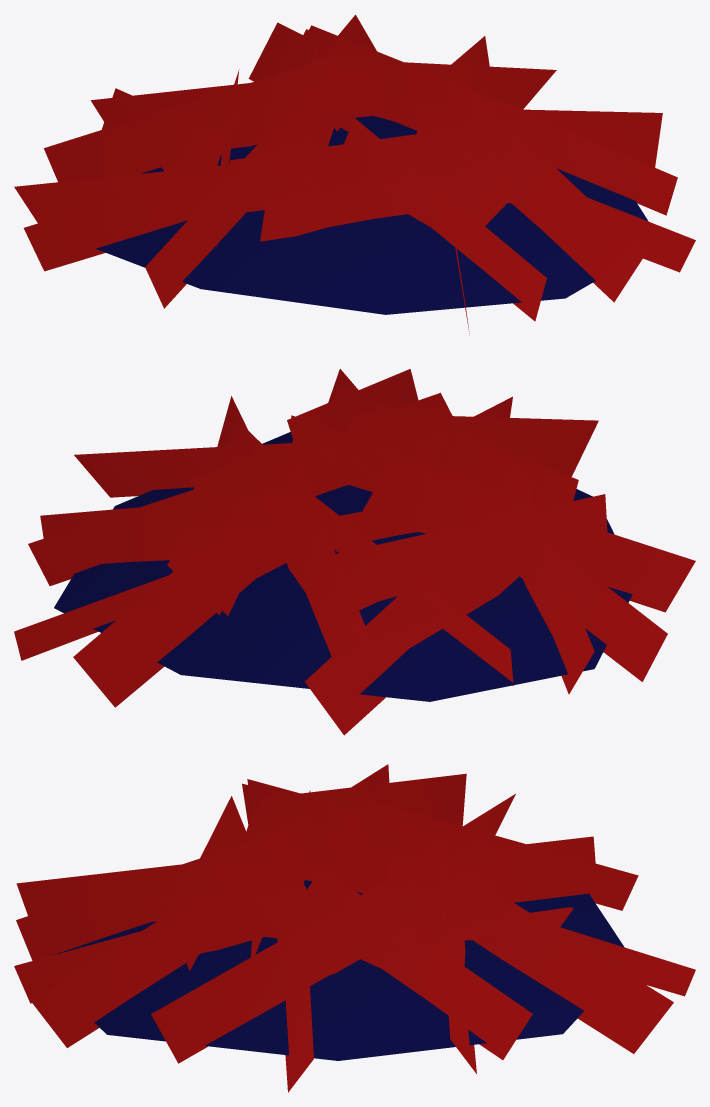
Rendered from Moss_medium.fbx.
3 renders of one model, top to bottom at view 1: azimuth 30°, elevation 25°; view 2: azimuth 150°, elevation 25°; view 3: azimuth 270°, elevation 25°, orthographic. The views are drawn at different scales.
Visible parts, largest first — view 1: Moss_medium; view 2: Moss_medium; view 3: Moss_medium.
Boxes of the visible parts, <box> form: Moss_medium: <box>14,14,695,335</box>; Moss_medium: <box>14,369,695,735</box>; Moss_medium: <box>14,764,695,1092</box>.
Size of the model in its own units: 2.17 by 0.4903 by 2.15.
